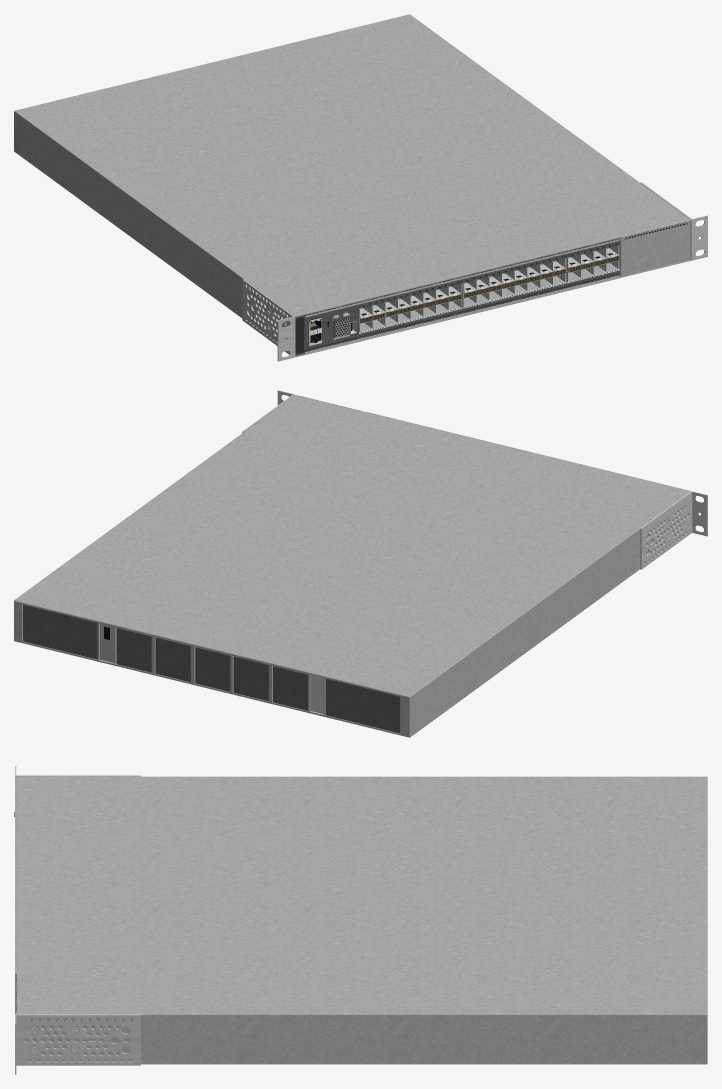
The picture shows the model from 3 angles, top to bottom: view 1: azimuth 30°, elevation 25°; view 2: azimuth 150°, elevation 25°; view 3: azimuth 270°, elevation 25°; orthographic projection. The views are drawn at different scales.
Parts seen in each view (by area): view 1: Shell, Port_Cages, Rack_Ears, empty:Network Module, Front_Details, Front_Lip; view 2: Shell, Rack_Ears, empty:PS-0, empty:PS-1, empty:FAN 0, empty:FAN 3, empty:FAN 1, empty:FAN 2, empty:FAN 4, Rear_Details; view 3: Shell, Rack_Ears.
Part boxes in pixels (x1,y1,x2,y2): Shell: [14, 14, 689, 355]; Port_Cages: [359, 245, 619, 333]; Rack_Ears: [242, 182, 707, 361]; empty:Network Module: [621, 219, 690, 277]; Front_Details: [295, 238, 619, 354]; Front_Lip: [295, 236, 621, 357]; Shell: [14, 395, 689, 737]; Rack_Ears: [242, 390, 707, 569]; empty:PS-0: [325, 678, 400, 733]; empty:PS-1: [23, 604, 97, 659]; empty:FAN 0: [273, 666, 308, 710]; empty:FAN 3: [155, 637, 190, 682]; empty:FAN 1: [233, 656, 268, 701]; empty:FAN 2: [195, 647, 230, 691]; empty:FAN 4: [116, 627, 151, 672]; Rear_Details: [100, 623, 323, 713]; Shell: [16, 776, 707, 1064]; Rack_Ears: [15, 766, 140, 1074].
Size of the model in its own units: 0.4826 by 0.044 by 0.5485.
Materials: 22 (4 with a texture image).
